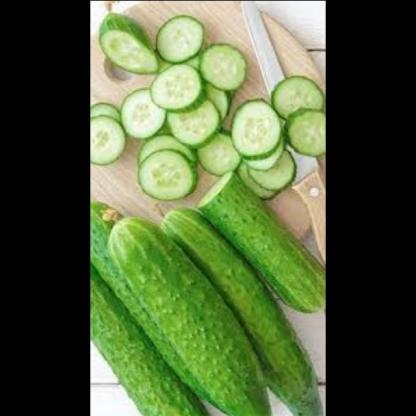cucumber: (155, 206, 324, 416), (90, 54, 325, 203), (106, 212, 263, 416), (89, 208, 204, 416), (195, 169, 325, 314), (91, 12, 169, 76), (153, 9, 204, 65)
